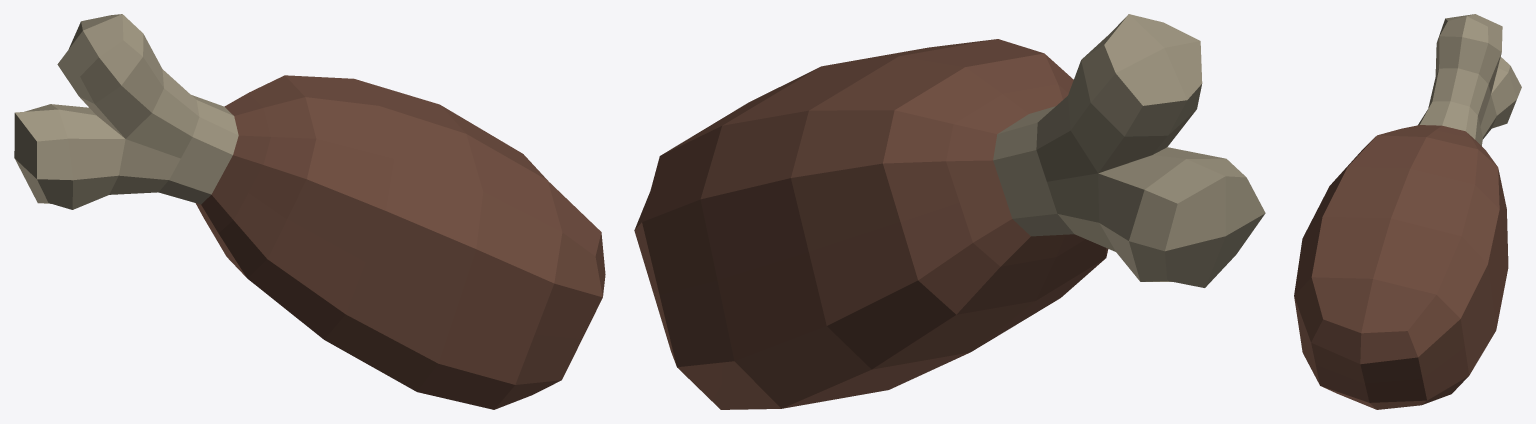
Rendered from chicken.glb.
3 renders of one model, left to right at view 1: azimuth 30°, elevation 25°; view 2: azimuth 150°, elevation 25°; view 3: azimuth 270°, elevation 25°, orthographic. The views are drawn at different scales.
Visible parts, largest first — view 1: ChickenLeg; view 2: ChickenLeg; view 3: ChickenLeg.
Boxes of the visible parts, x1,y1,x2,y2 form: ChickenLeg: (14,14,605,409); ChickenLeg: (634,14,1265,409); ChickenLeg: (1294,14,1521,409).
Bounding box in the file's own units: 0.9352 × 0.7066 × 0.5253.
